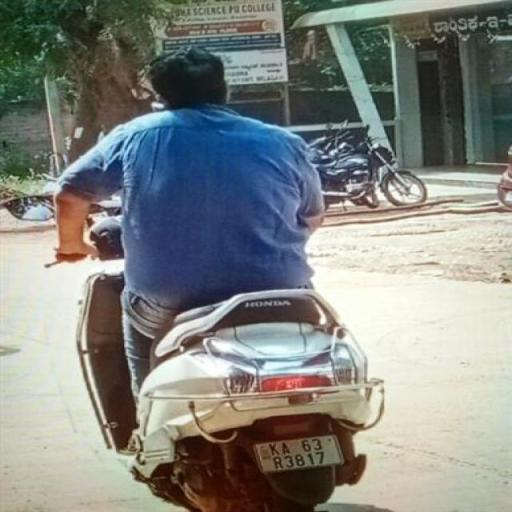numberplate: (244, 427, 347, 476)
using mobile: (145, 94, 181, 116)
